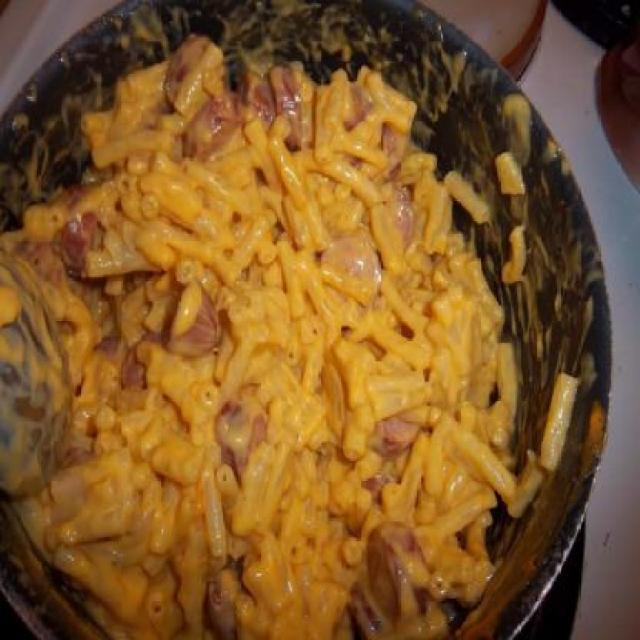hot dog: (162, 28, 309, 152), (343, 81, 411, 285), (114, 278, 223, 391), (364, 504, 428, 618), (26, 186, 106, 272), (370, 406, 419, 460)
